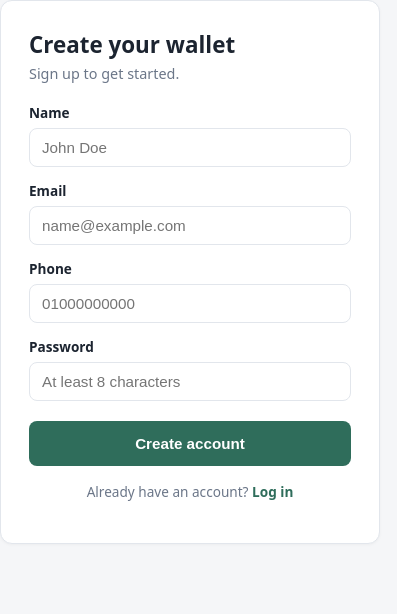
Test: Register › shows a validation error when required fields are missing
Click the button "Create account" at [190, 444], box [29,421,351,466]
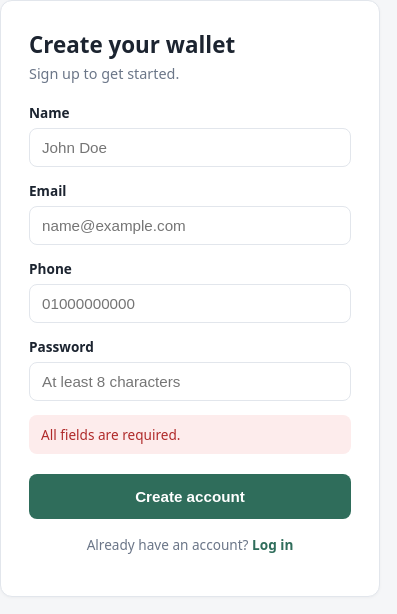
Check: the text "All fields are required." is shown, box [29,415,351,454]
